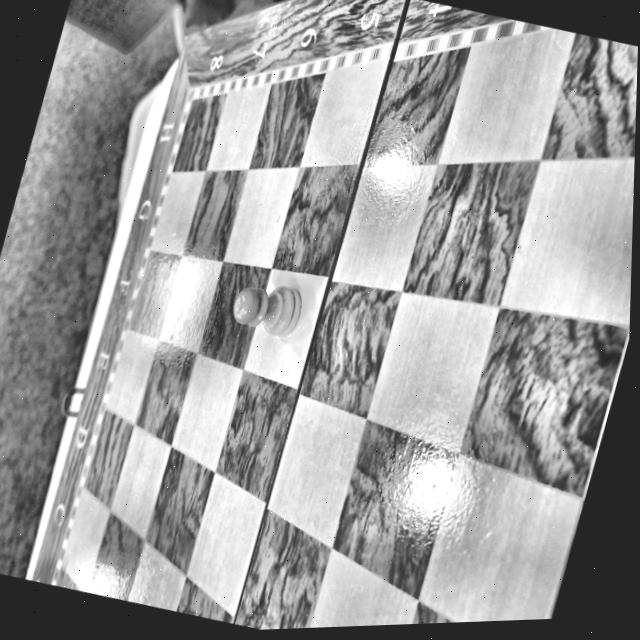white-pawn: (232, 285, 300, 336)
